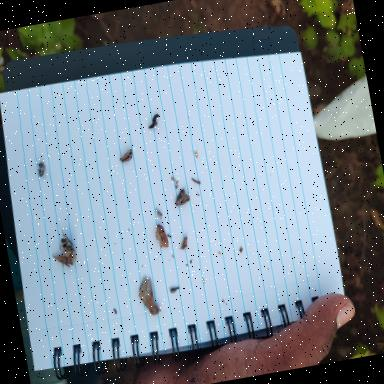pbw: (154, 222, 170, 252), (174, 187, 192, 207)
